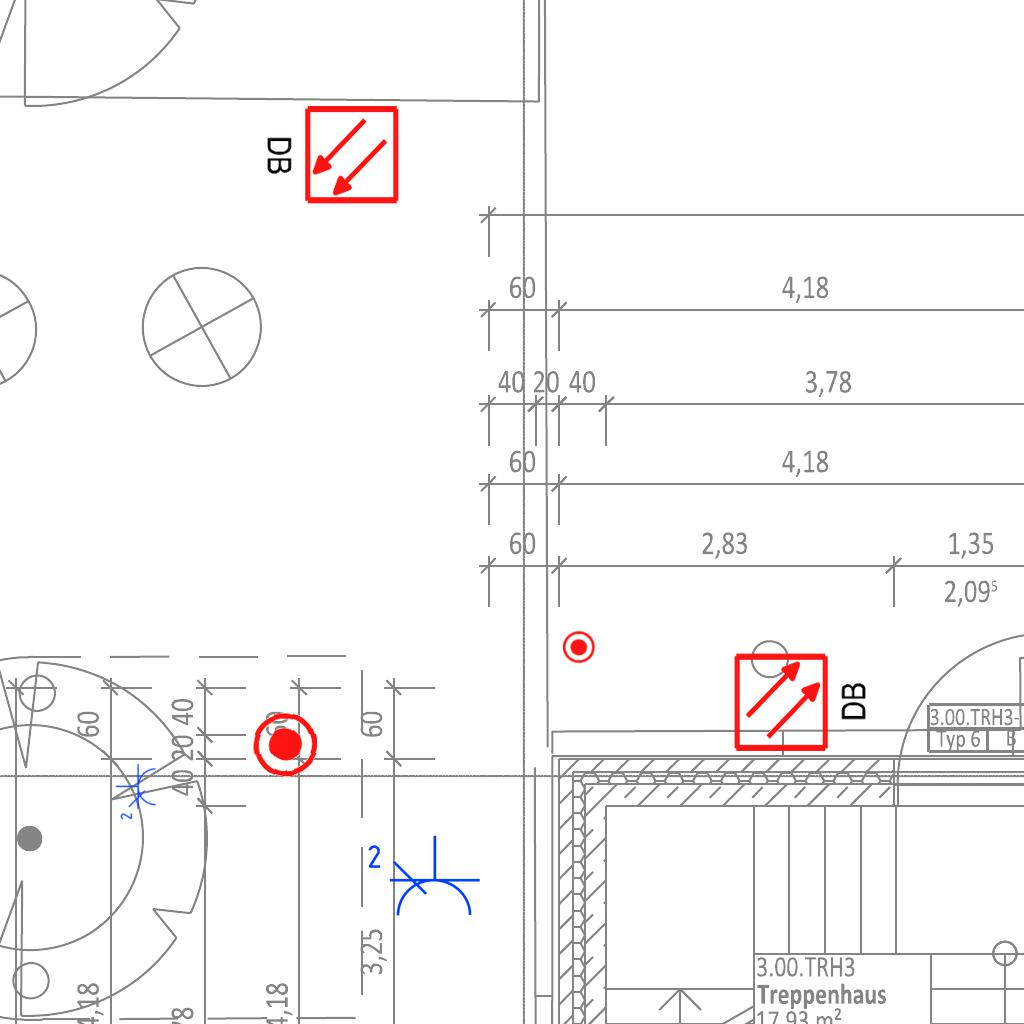DB_Melder_in_Doppelboden_mit_Revisionsoeffnung_mind_40_x_40_cm: (257, 99, 406, 213), (727, 644, 876, 758)
Schukosteckdose_mehrfach: (361, 834, 482, 922), (115, 763, 159, 823)
Taster: (249, 709, 319, 779), (563, 631, 596, 664)
